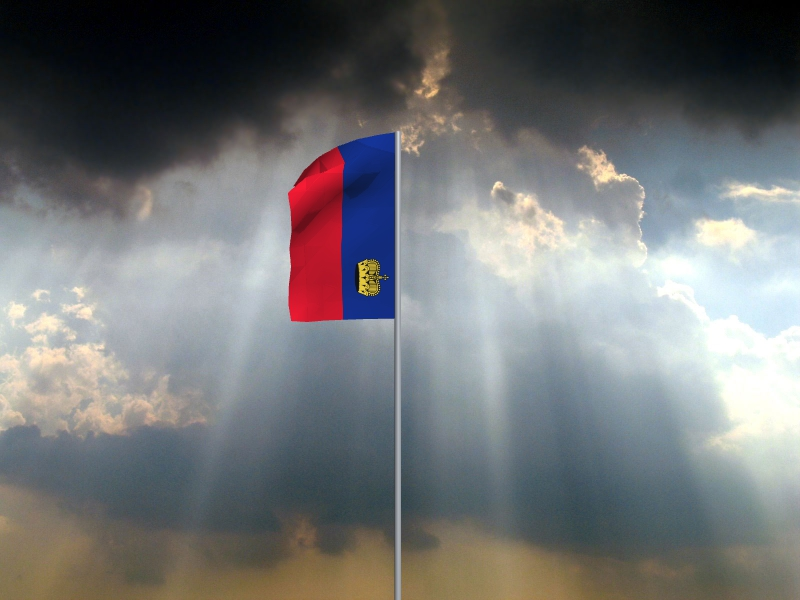li: (287, 133, 396, 324)
